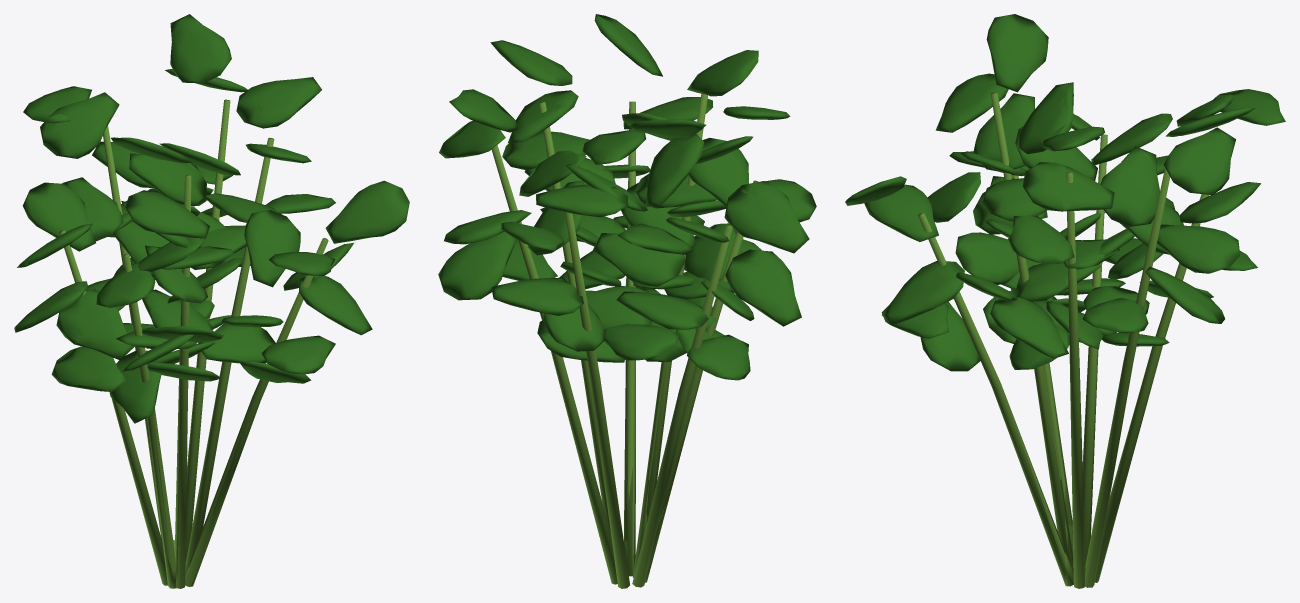
The model's file is persil.glb.
The picture shows the model from 3 angles, left to right: view 1: azimuth 30°, elevation 25°; view 2: azimuth 150°, elevation 25°; view 3: azimuth 270°, elevation 25°; orthographic projection. The views are drawn at different scales.
Visible parts, largest first — view 1: entier_peau, moitie_A_peau, moitie_B_peau, entier_extra0, moitie_B_extra0, moitie_A_extra0; view 2: entier_peau, moitie_B_peau, moitie_A_peau, entier_extra0, moitie_B_extra0, moitie_A_extra0; view 3: entier_peau, moitie_A_peau, moitie_B_peau, entier_extra0, moitie_B_extra0, moitie_A_extra0.
Part boxes in pixels (left/top/right/bottom): entier_peau: left=15, top=14, right=407, bottom=423; moitie_A_peau: left=27, top=84, right=409, bottom=422; moitie_B_peau: left=14, top=20, right=317, bottom=388; entier_extra0: left=59, top=100, right=328, bottom=588; moitie_B_extra0: left=59, top=99, right=274, bottom=588; moitie_A_extra0: left=123, top=175, right=327, bottom=586; entier_peau: left=438, top=14, right=816, bottom=380; moitie_B_peau: left=442, top=41, right=805, bottom=379; moitie_A_peau: left=497, top=14, right=816, bottom=352; entier_extra0: left=491, top=94, right=757, bottom=588; moitie_B_extra0: left=492, top=102, right=732, bottom=588; moitie_A_extra0: left=624, top=93, right=757, bottom=555; entier_peau: left=845, top=14, right=1285, bottom=371; moitie_A_peau: left=845, top=15, right=1065, bottom=371; moitie_B_peau: left=1065, top=82, right=1285, bottom=348; entier_extra0: left=918, top=92, right=1208, bottom=588; moitie_B_extra0: left=1065, top=135, right=1209, bottom=588; moitie_A_extra0: left=921, top=92, right=1065, bottom=581.
Size of the model in its own units: 0.0931 by 0.1464 by 0.1119.
Materials: 3 (1 with a texture image).
